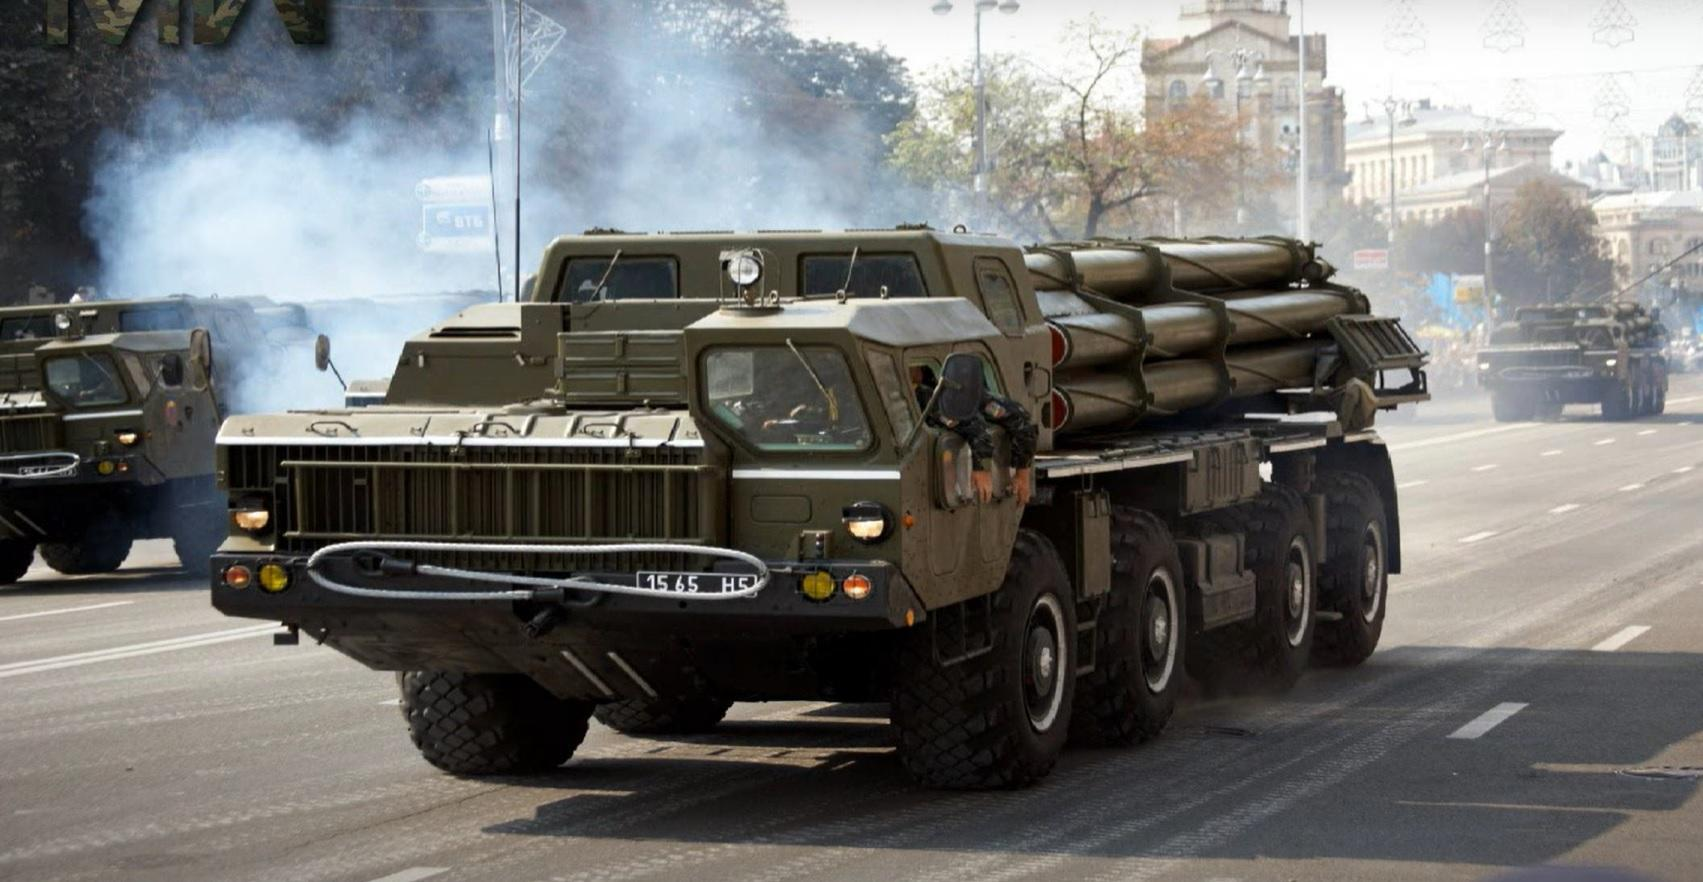MIL_SAM_TEL: (207, 223, 1404, 790), (1480, 287, 1675, 424)
